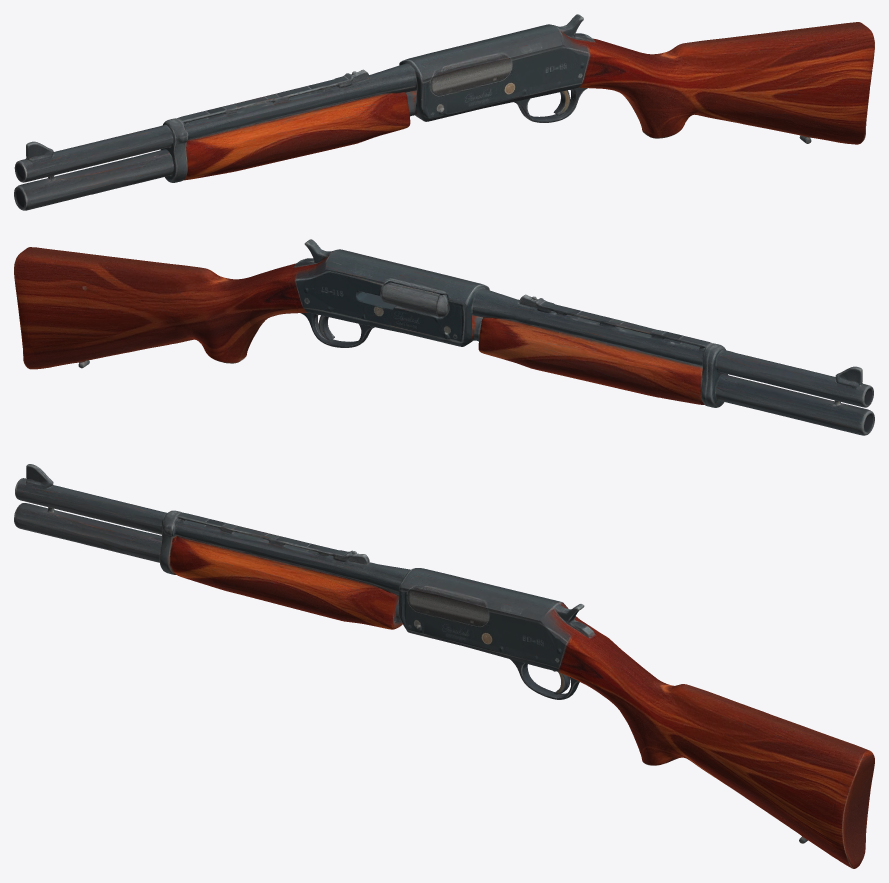
Rendered from shotgun.glb.
3 views of the same model, one above another, from view 1: azimuth 30°, elevation 25°; view 2: azimuth 150°, elevation 25°; view 3: azimuth 330°, elevation 25° (orthographic).
Size of the model in its own units: 1.9 by 0.4345 by 0.1122.
1 material, 1 textured.
